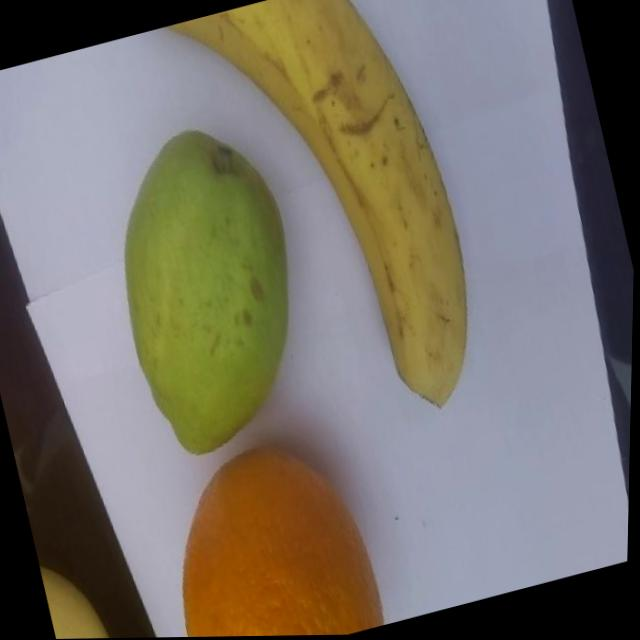Banana: (156, 0, 503, 457)
Orange: (147, 425, 392, 638)
